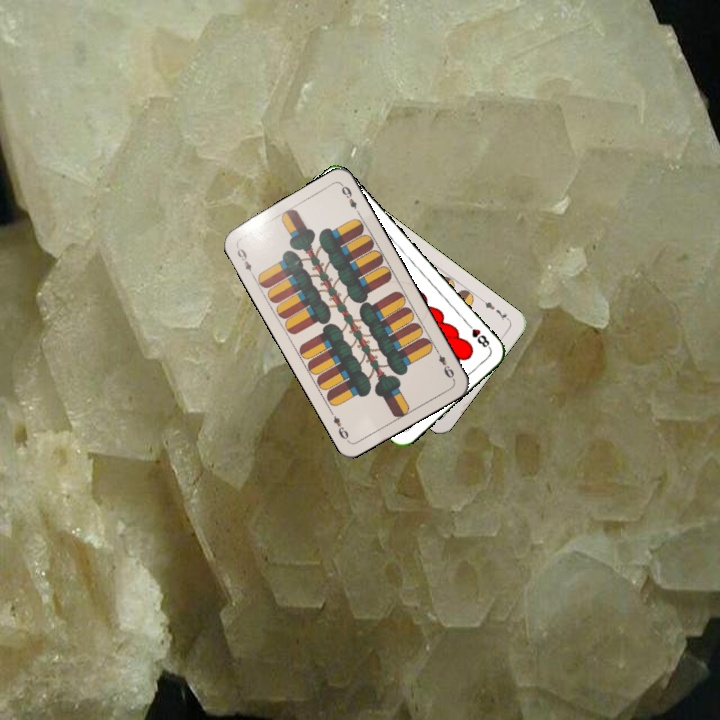E7: (477, 295, 512, 324)
E9: (432, 345, 457, 382), (233, 242, 257, 280)
H8: (462, 318, 493, 351)
